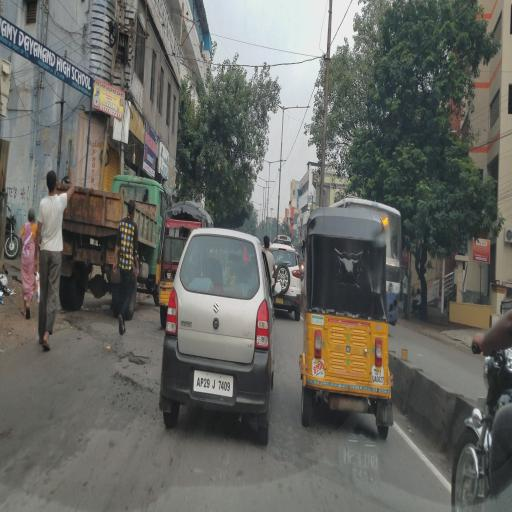street_light_0: (284, 90, 313, 116), (269, 152, 289, 172), (266, 171, 278, 191), (254, 168, 267, 185)
